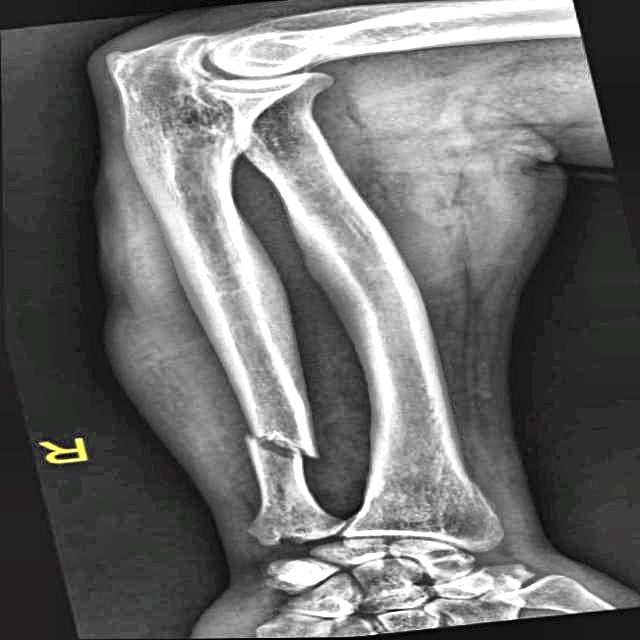Oblique Displaced: (211, 418, 340, 492)
